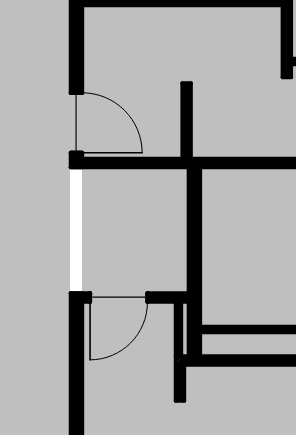door: (63, 90, 151, 158), (87, 291, 151, 367)
